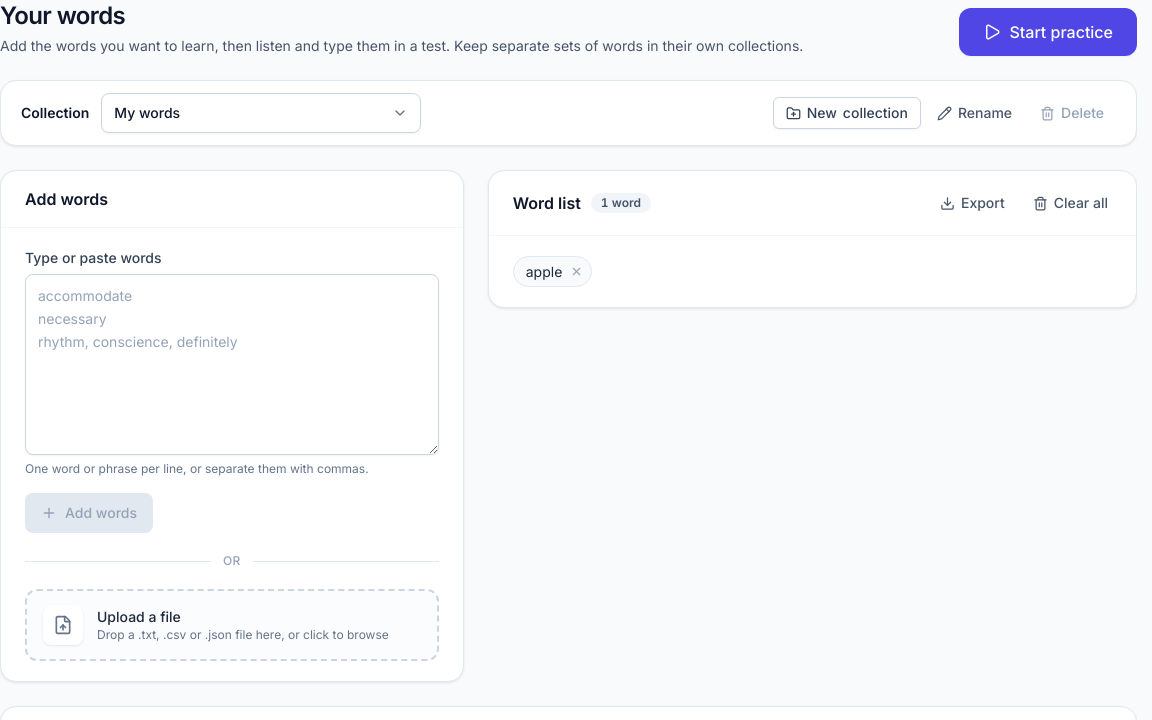
Scenario: WordLibrary collections › keeps the words of each collection separate
Click the button "New collection": (847, 113) [773, 97, 921, 129]
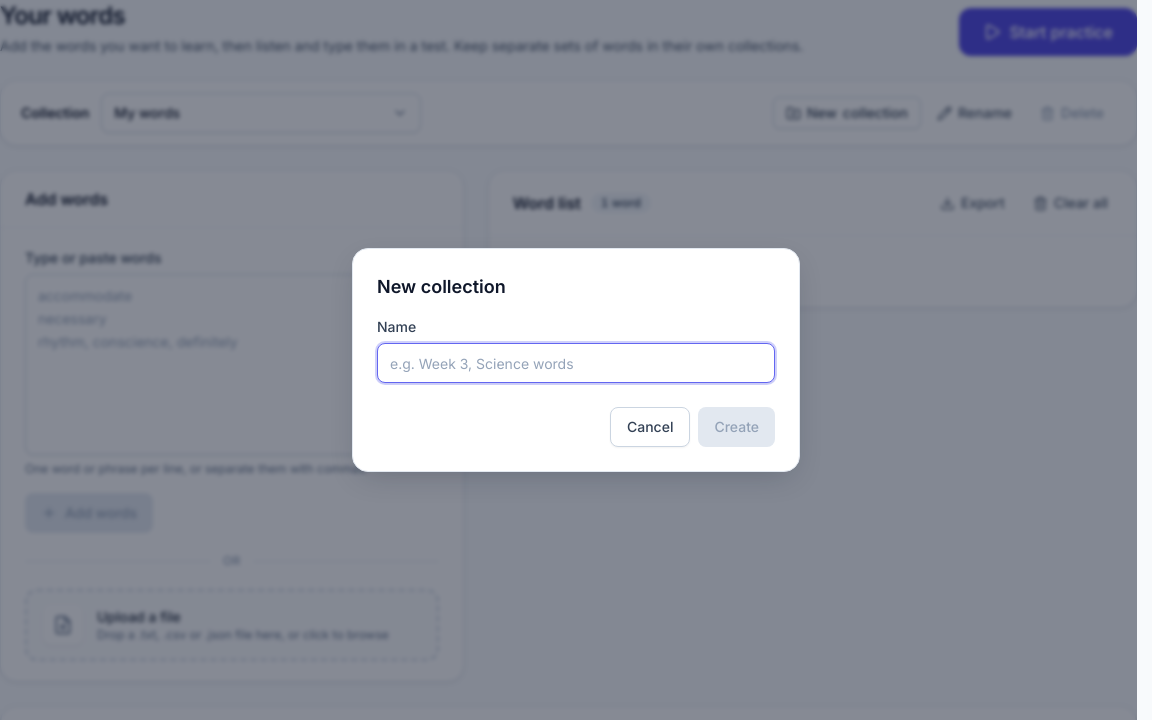
Type keys "Week 2{Enter}"
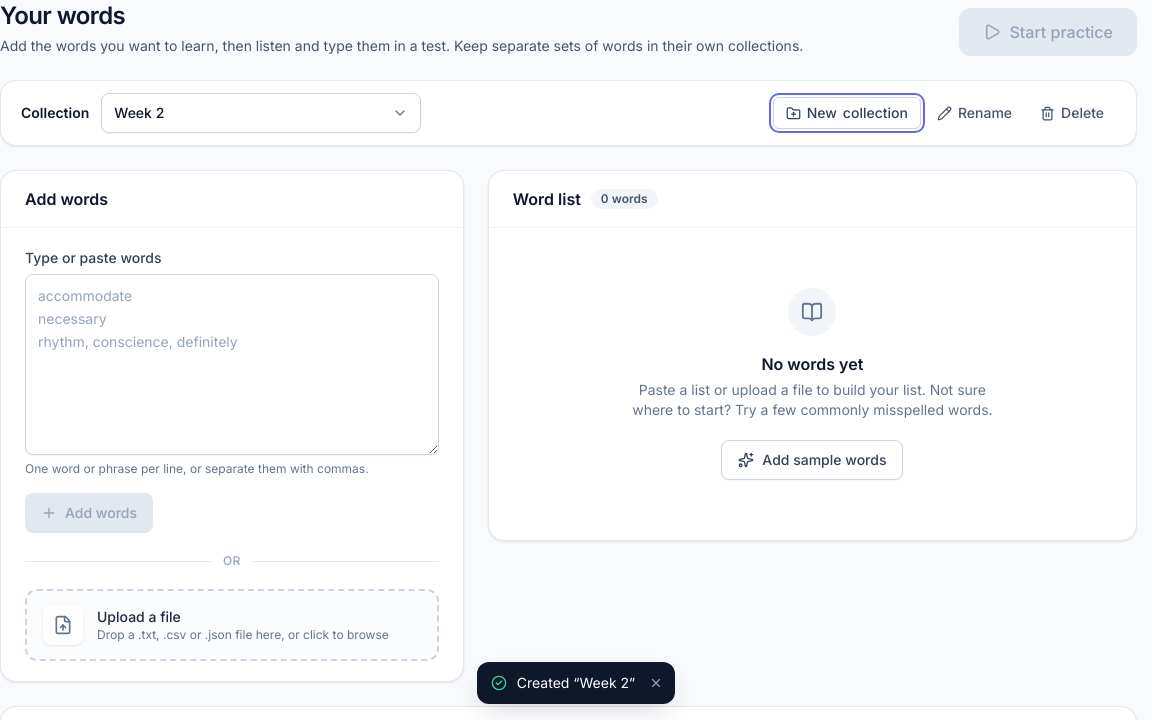
Expected: the text "apple" is not shown
Expected: the dialog is gone
Expected: the dropdown named "Collection" reads "Week 2", [101, 93, 421, 133]
In the text box labelled "Type or paste words": (232, 365) [25, 274, 439, 455], type "banana"
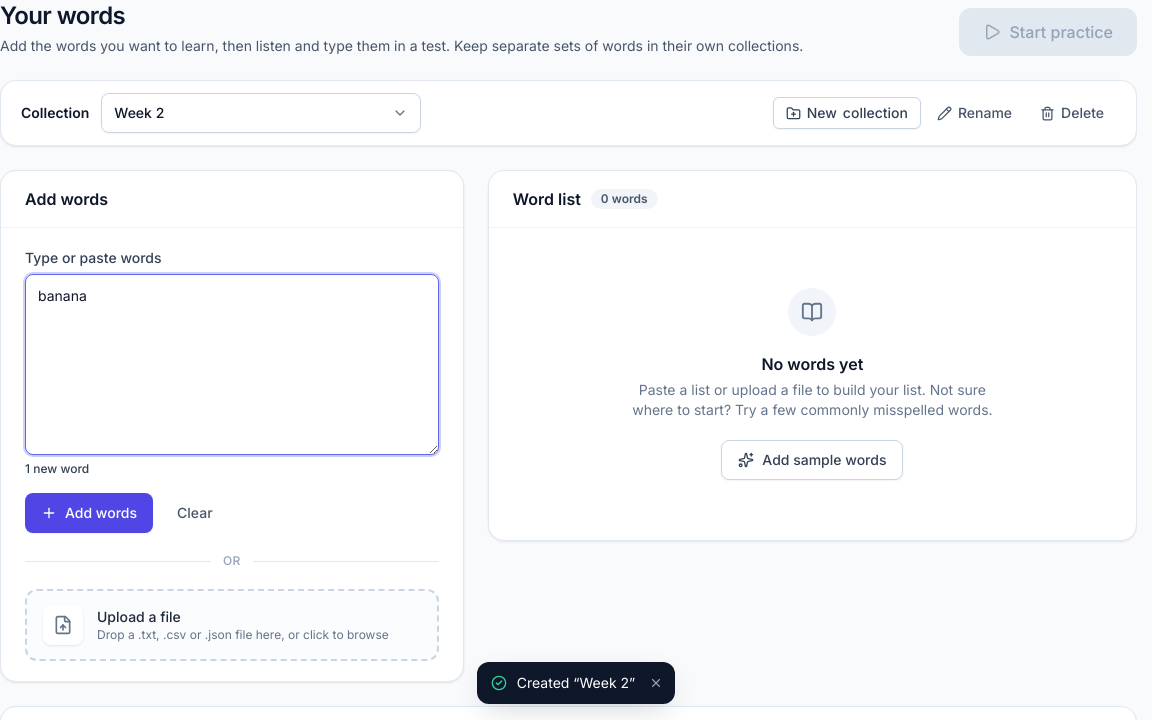
Click the button "Add words": (89, 513) [25, 493, 153, 533]
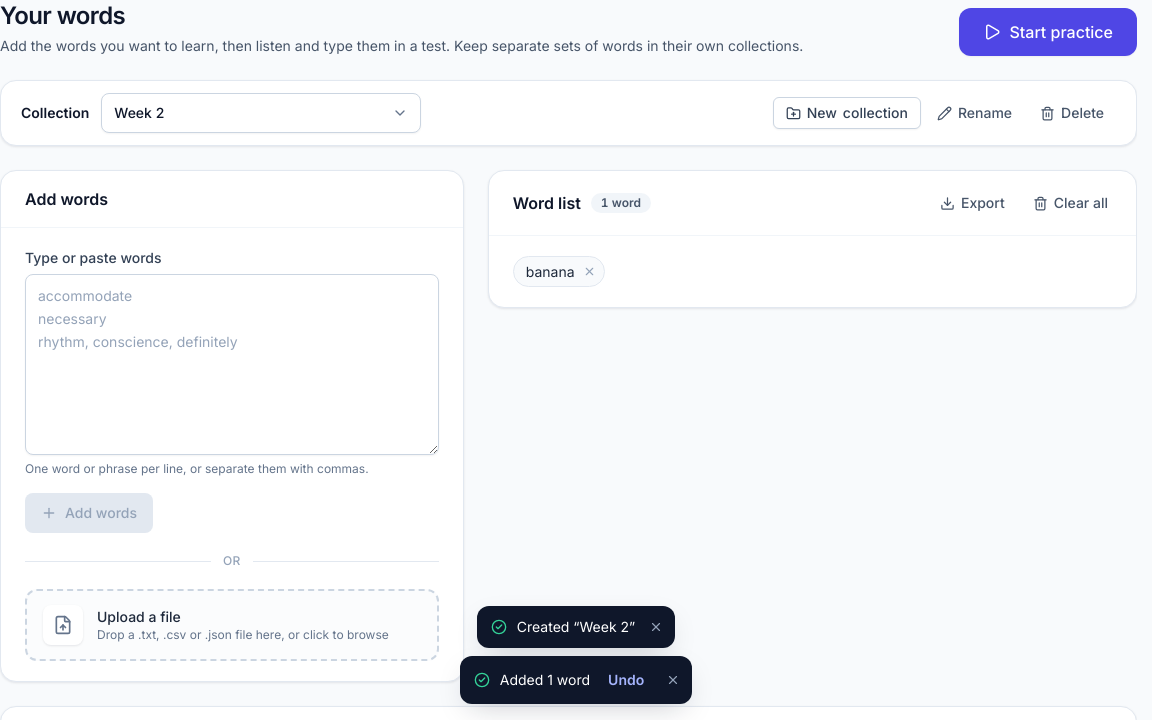
Click the dropdown named "Collection": (139, 112) [101, 93, 421, 133]
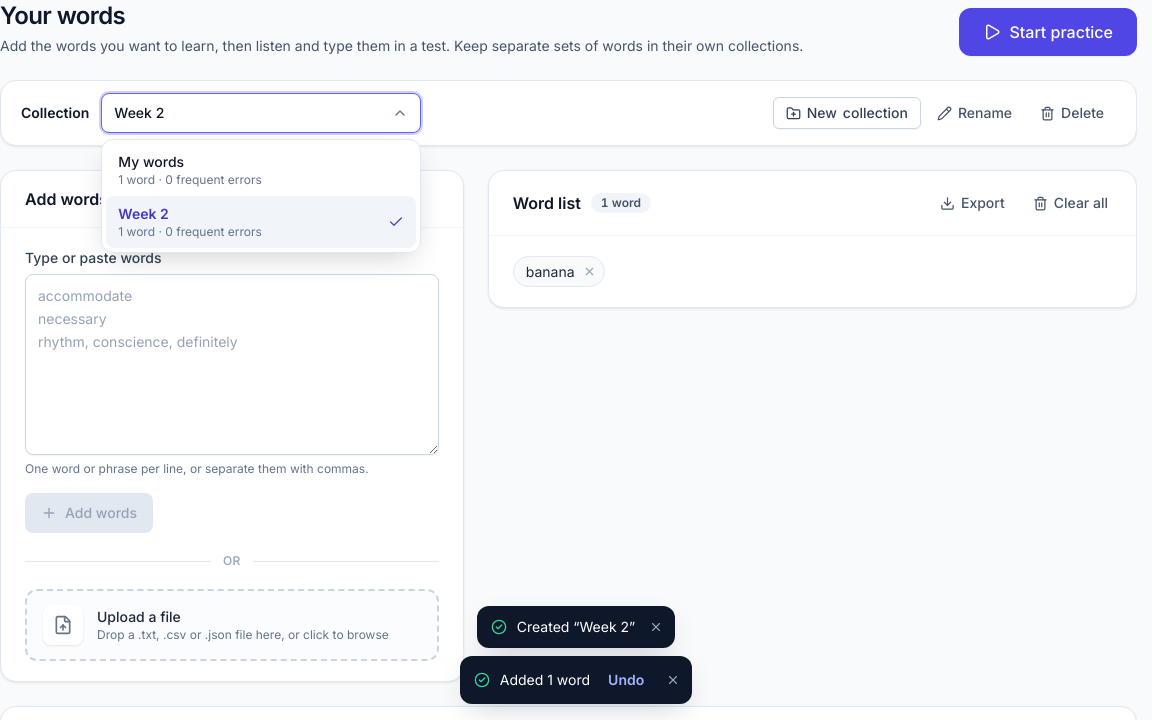
Click the option "My words 1 word · 0 frequent errors": (190, 173) [117, 153, 262, 193]
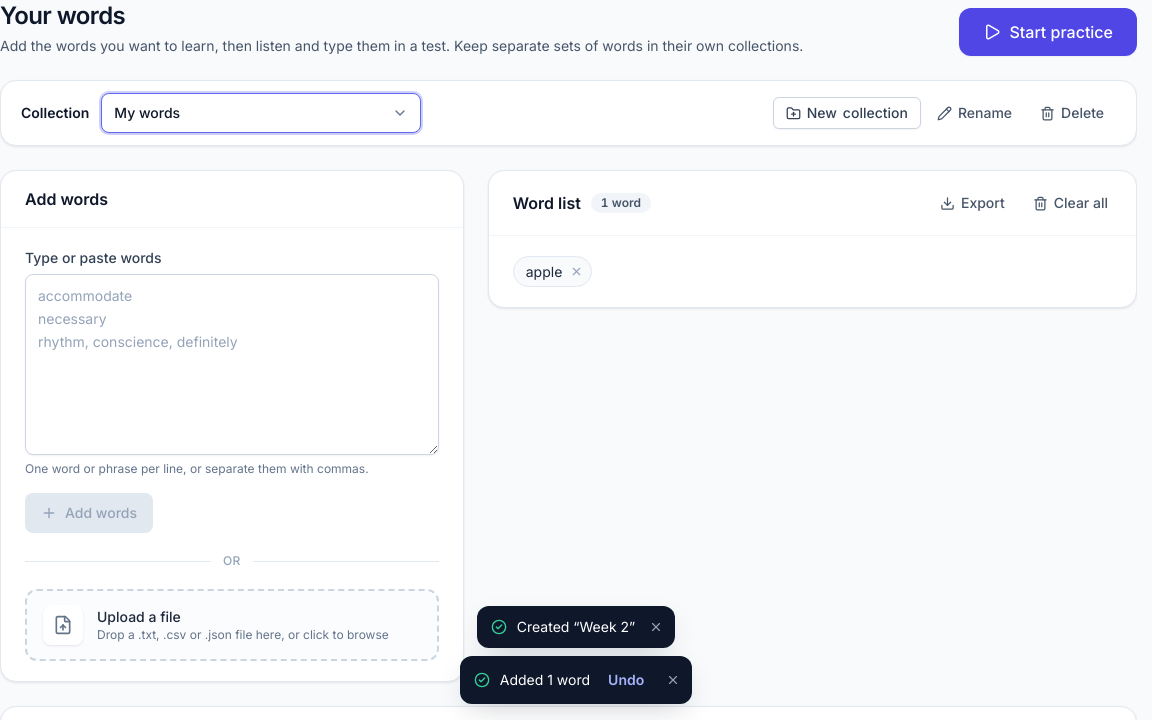
Expected: the text "apple" is shown, [526, 262, 562, 282]
Expected: the text "banana" is gone
